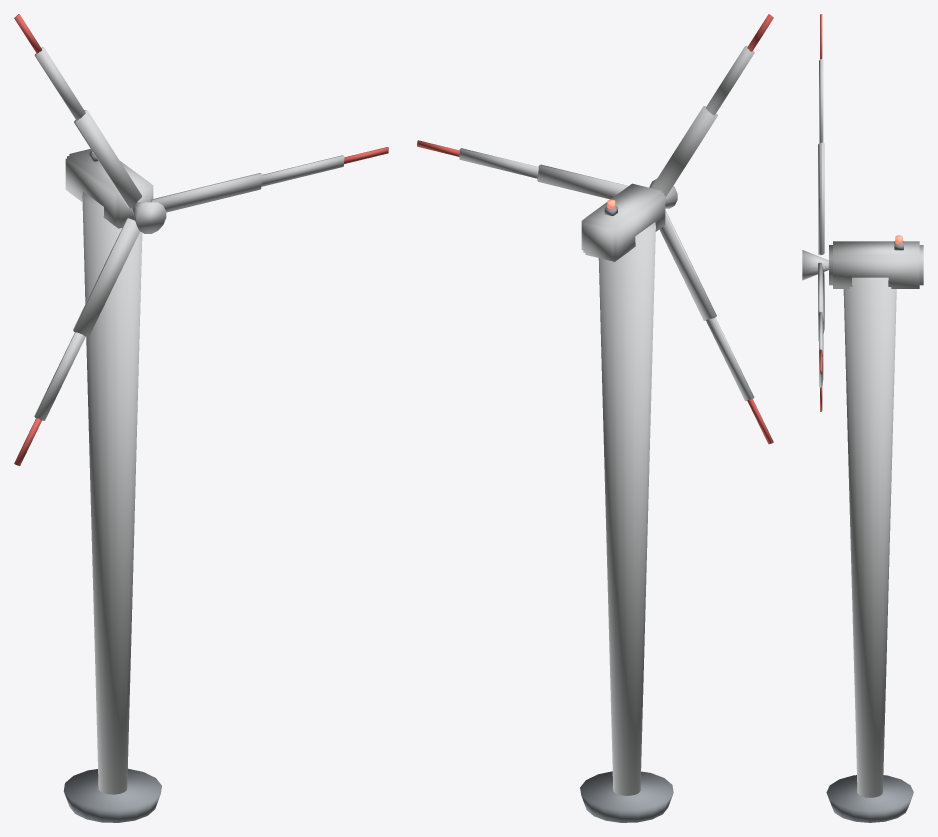
The model's file is ext_wind_turbine.glb.
The picture shows the model from 3 angles, left to right: view 1: azimuth 30°, elevation 25°; view 2: azimuth 150°, elevation 25°; view 3: azimuth 270°, elevation 25°; orthographic projection. The views are drawn at different scales.
Parts seen in each view (by area): view 1: Tower, Rotor; view 2: Tower, Rotor; view 3: Tower, Rotor.
Boxes of the visible parts, x1=… form: Tower: x1=63, y1=149, x2=161, y2=822; Rotor: x1=14, y1=14, x2=388, y2=465; Tower: x1=580, y1=183, x2=673, y2=822; Rotor: x1=417, y1=14, x2=773, y2=444; Tower: x1=826, y1=235, x2=923, y2=822; Rotor: x1=802, y1=14, x2=828, y2=411.
Size of the model in its own units: 21.74 by 46.7 by 6.92.
